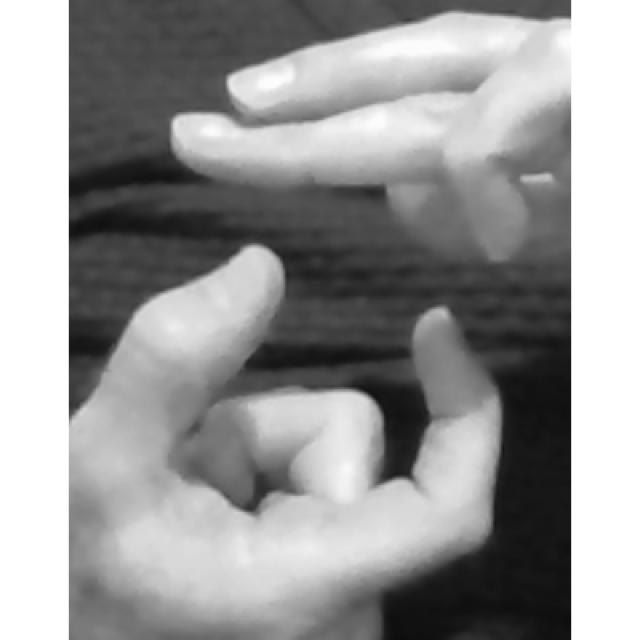U--: (73, 9, 572, 623)
